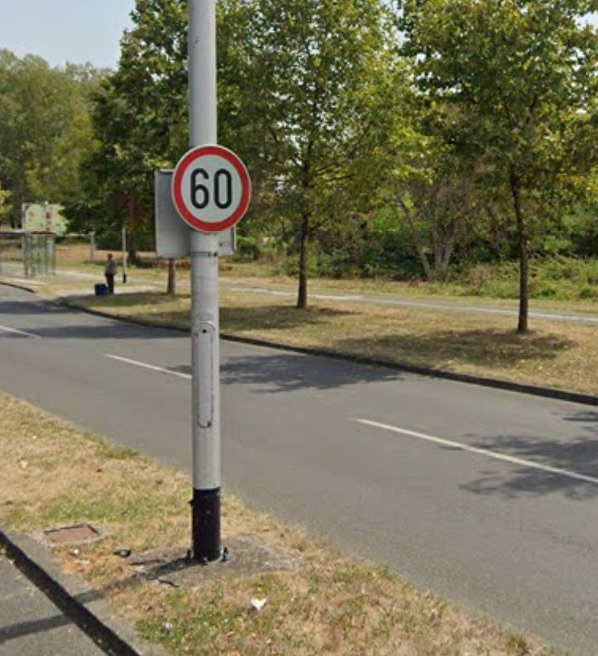Ograničenje brzine 60: (171, 144, 252, 232)
